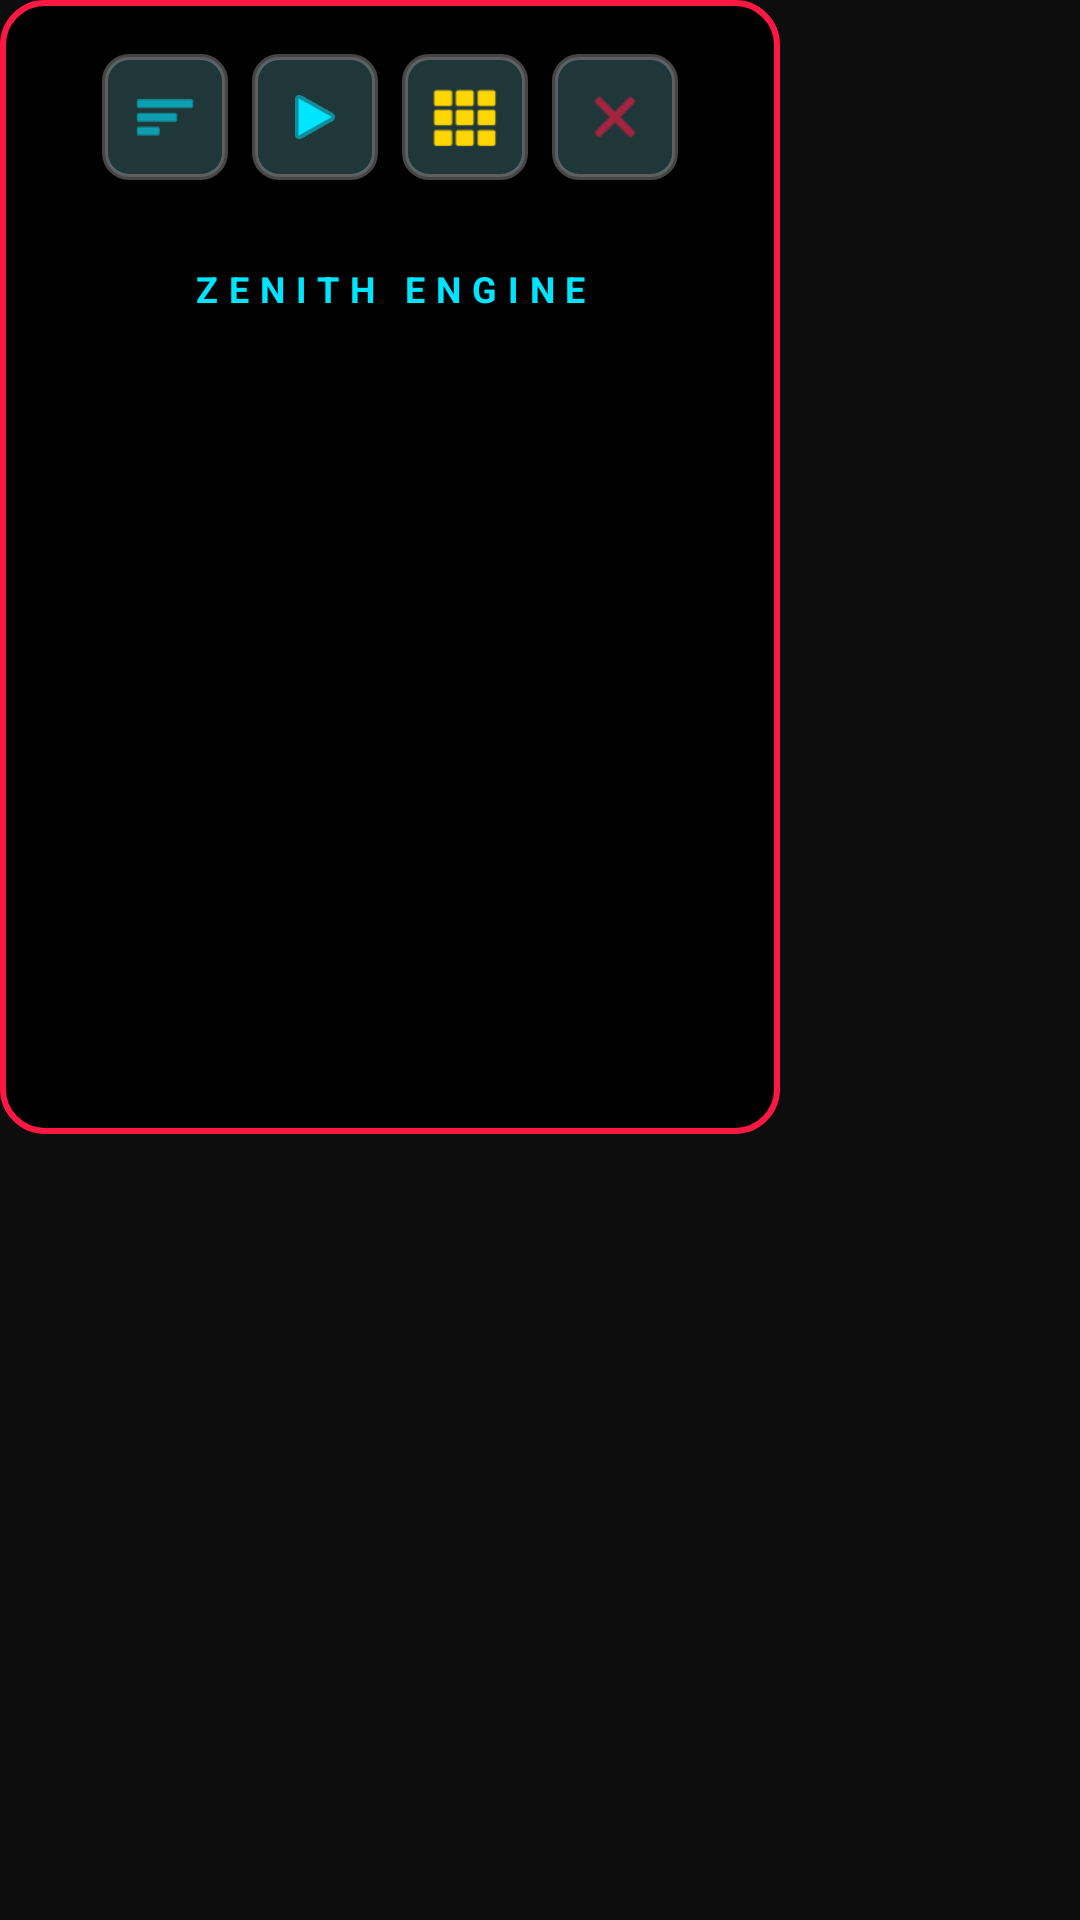

Icons on this 1080px×1920px Android screen, each with its box as (x1, y1, x2, y2):
close clear cancel: (552, 54, 678, 180)
dialer: (402, 54, 528, 180)
play: (252, 54, 378, 180)
sort by size: (102, 54, 228, 180)
